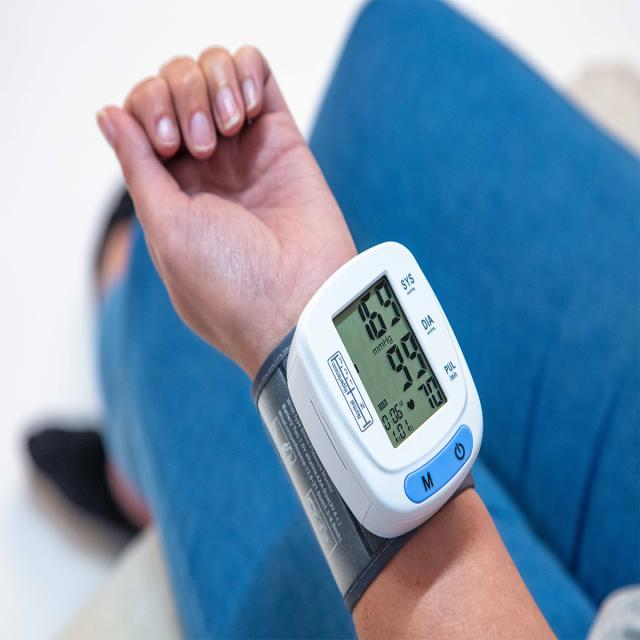dia: (377, 324, 437, 396)
pul: (410, 372, 450, 418)
ssd: (322, 269, 457, 449)
sys: (344, 275, 410, 349)
